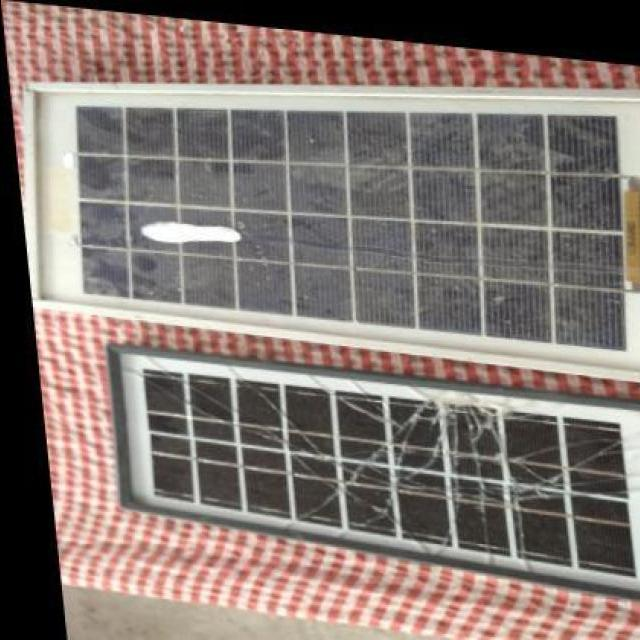cracked: (106, 341, 640, 632)
soiled: (15, 80, 640, 386)
